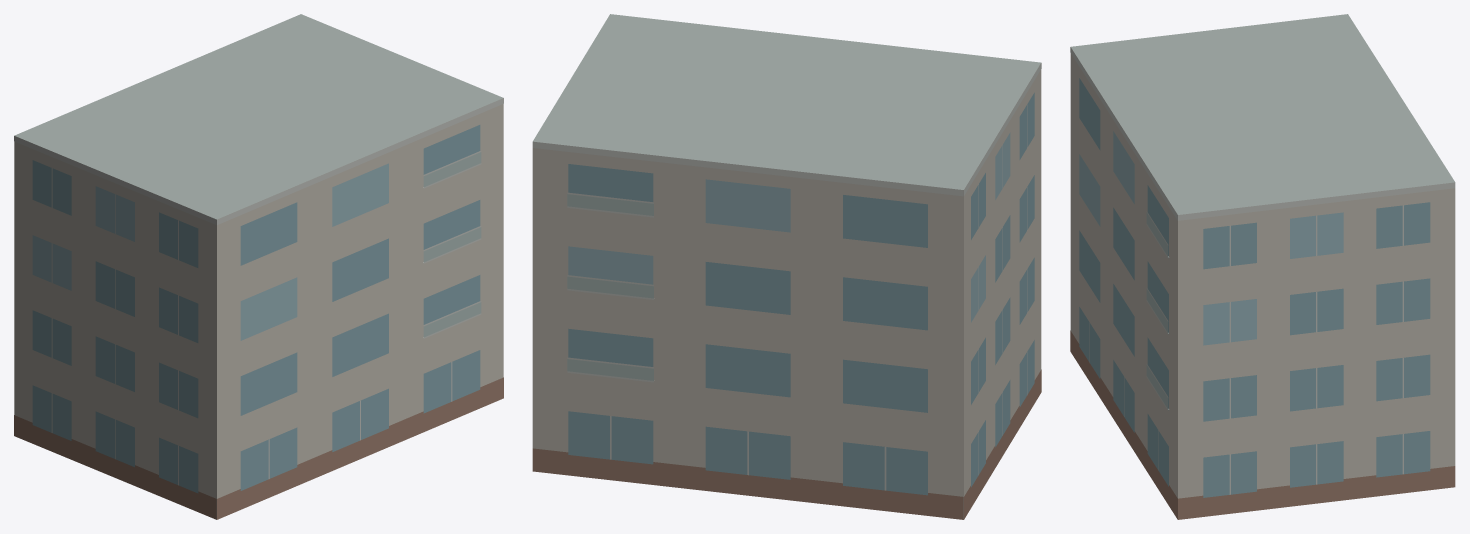
The model's file is survey-upis-32709723.glb.
3 views of the same model, side by side, from view 1: azimuth 30°, elevation 25°; view 2: azimuth 150°, elevation 25°; view 3: azimuth 270°, elevation 25° (orthographic). The views are drawn at different scales.
Visible parts, largest first — view 1: survey-upis-32709723.tmp; view 2: survey-upis-32709723.tmp; view 3: survey-upis-32709723.tmp.
Part boxes in pixels (x1=…): survey-upis-32709723.tmp: x1=14, y1=14, x2=503, y2=519; survey-upis-32709723.tmp: x1=532, y1=14, x2=1041, y2=519; survey-upis-32709723.tmp: x1=1070, y1=14, x2=1455, y2=519.
Size of the model in its own units: 18.12 by 12.8 by 14.66.
